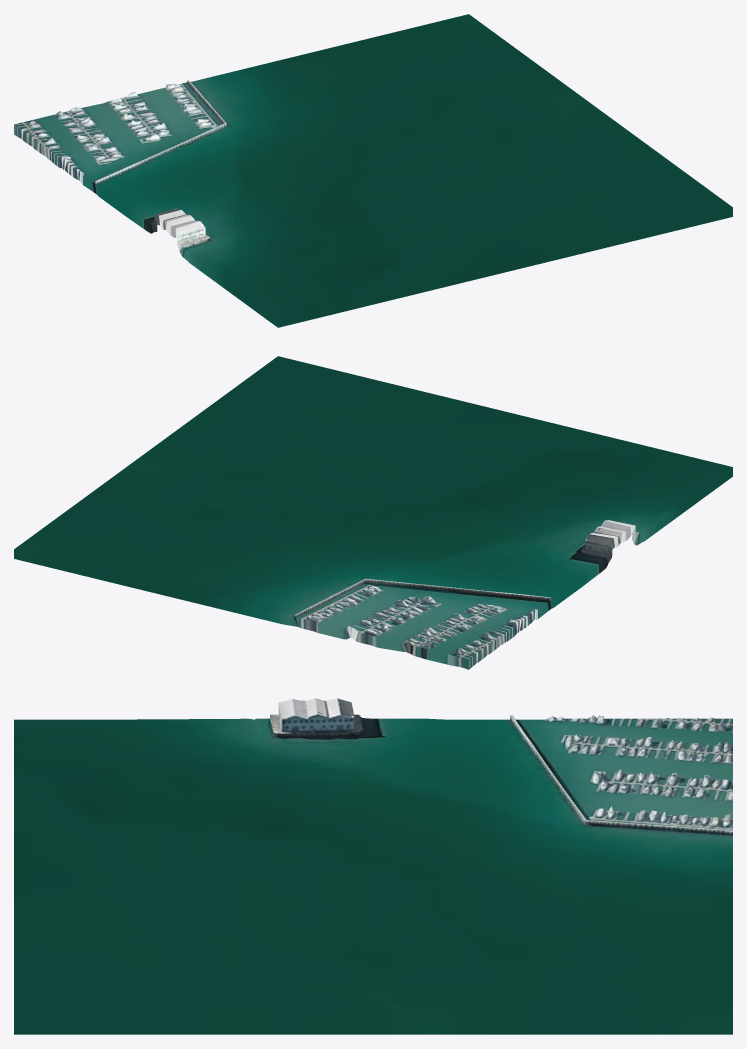
The model's file is z16-10484-25322-h0-yup-uvflip-v3-world.glb.
3 renders of one model, top to bottom at view 1: azimuth 30°, elevation 25°; view 2: azimuth 150°, elevation 25°; view 3: azimuth 270°, elevation 25°, orthographic. The views are drawn at different scales.
Bounding box in the file's own units: 483 × 25.6 × 485.
1 material, 1 textured.
